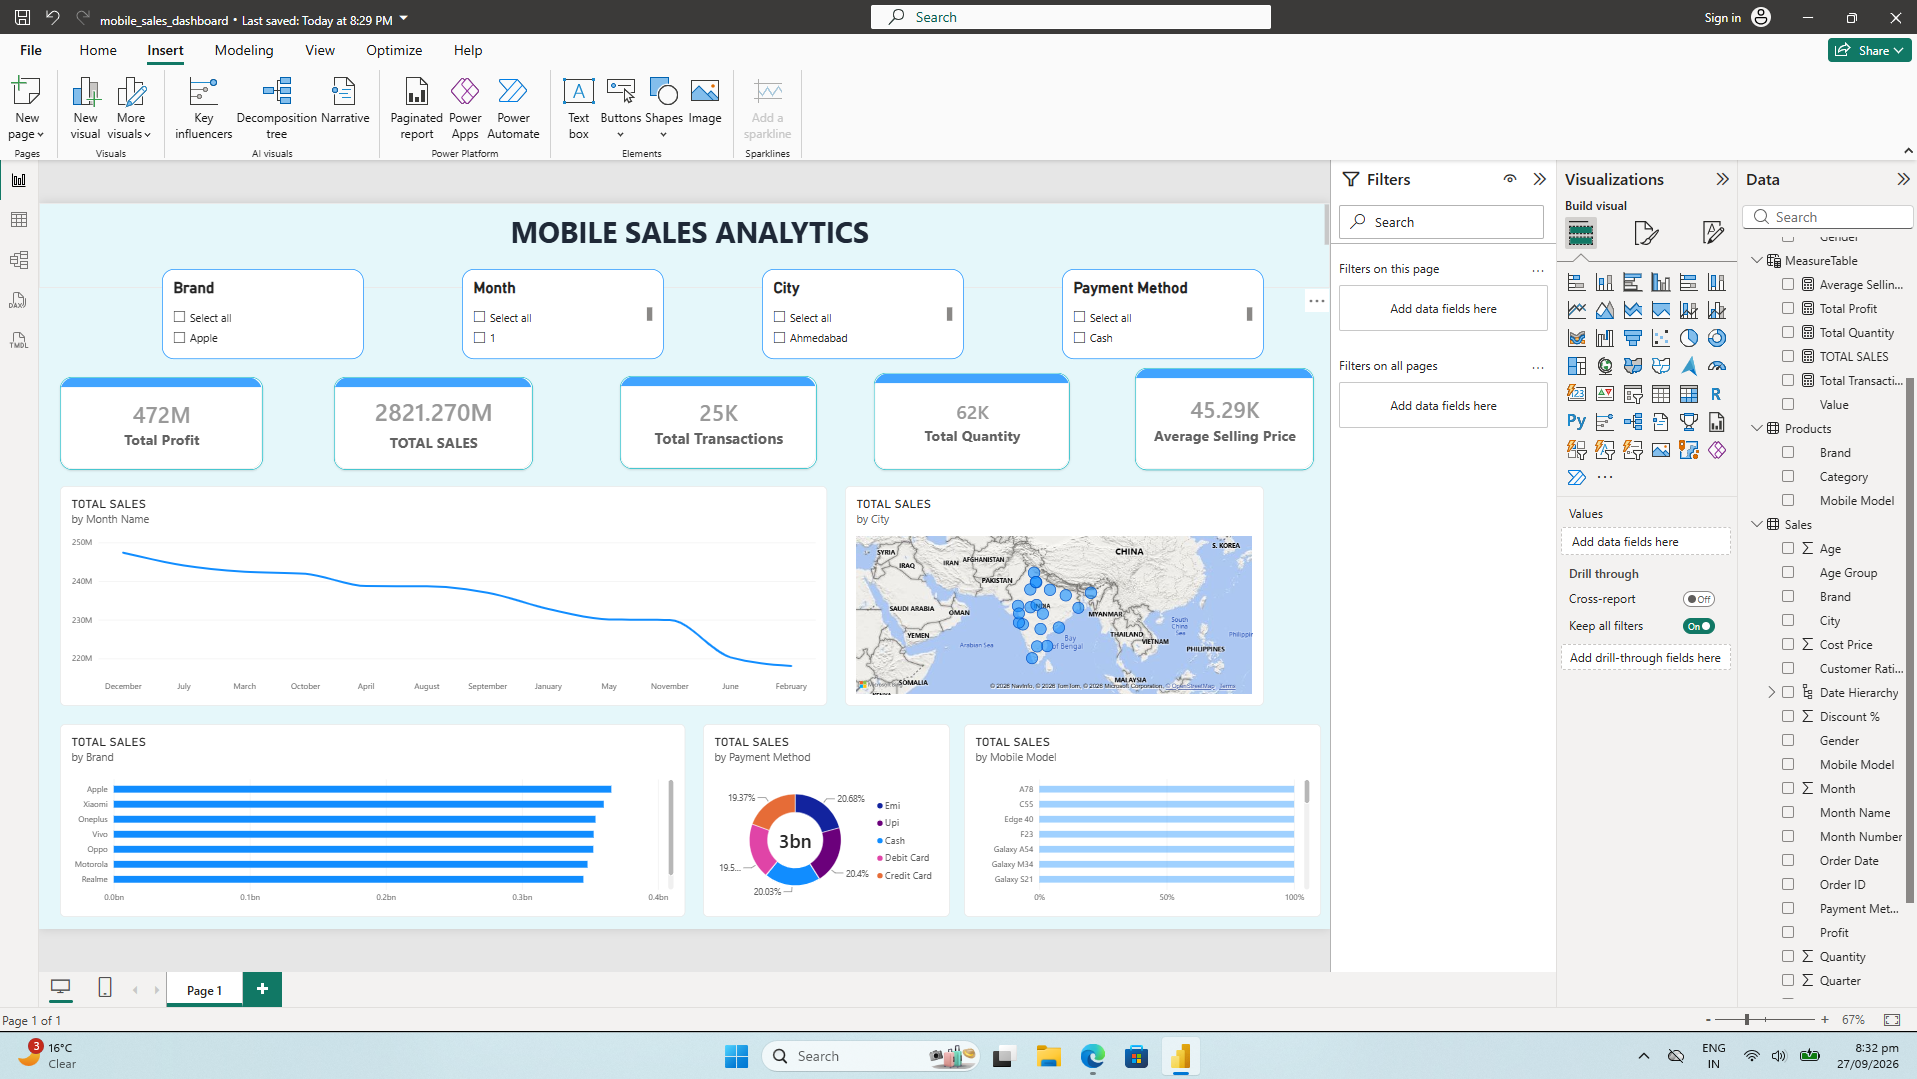

The dashboard page shown, as its layout file describes it:
{"tool":"powerbi","page":{"name":"Page 1","canvas":[1920,1080],"ordinal":0},"visuals":[{"type":"cardVisual","fields":{"Data":["MeasureTable.Total Sales"]},"box":[438.7,258.8,296,138.3],"z":2},{"type":"cardVisual","fields":{"Data":["MeasureTable.Average Selling Price"]},"box":[1630,245.4,266.2,151.7],"z":5},{"type":"cardVisual","fields":{"Data":["MeasureTable.Total Transactions"]},"box":[864,258,293,138.3],"z":6},{"type":"cardVisual","fields":{"Data":["MeasureTable.Total Quantity"]},"box":[1241.8,252.8,291.5,144.3],"z":7},{"type":"cardVisual","fields":{"Data":["MeasureTable.Total Profit"]},"box":[31.2,258.8,301.9,138.3],"z":8},{"type":"textbox","box":[150,372,300,300],"z":9},{"type":"textbox","box":[150,682,300,300],"z":10},{"type":"textbox","box":[0,20.4,227.6,211.6],"z":11},{"type":"textbox","box":[0,0,1920,126.4],"z":12},{"type":"lineChart","fields":{"Category":["Sales.Month Name"],"Y":["MeasureTable.TOTAL SALES"]},"box":[31.2,420.9,1140.7,327.2],"z":13},{"type":"clusteredBarChart","fields":{"Category":["Sales.Brand"],"Y":["MeasureTable.TOTAL SALES"]},"box":[31.2,774.8,929.5,287],"z":16},{"type":"donutChart","fields":{"Category":["Sales.Payment Method"],"Y":["MeasureTable.TOTAL SALES"]},"box":[987.5,774.8,367.3,287],"z":18},{"type":"hundredPercentStackedBarChart","fields":{"Category":["Products.Mobile Model"],"Y":["MeasureTable.TOTAL SALES"]},"box":[1375.7,774.8,530.9,287],"z":19},{"type":"listSlicer","fields":{"Values":["Sales.Month"]},"box":[629.1,98.2,300.4,133.8],"z":21},{"type":"listSlicer","fields":{"Values":["Sales.City"]},"box":[1075.3,98.2,300.4,133.8],"z":22},{"type":"listSlicer","fields":{"Values":["Sales.Payment Method"]},"box":[1521.4,98.2,300.4,133.8],"z":23},{"type":"map","fields":{"Category":["Sales.City"],"Size":["MeasureTable.TOTAL SALES"]},"box":[1198.6,421.4,623.1,327.2],"z":24},{"type":"listSlicer","fields":{"Values":["Products.Brand"]},"box":[182.9,98.2,300.4,133.8],"z":25}]}

Visuals, with their boxes on the page's 1920x1080 design canvas (x1, y1, x2, y2). These are canvas units, not pixel positions in the 1917x1079 screenshot, which may show the page scaled, cropped or inside an application window:
cardVisual - MeasureTable.Total Sales: 439/259/735/397
cardVisual - MeasureTable.Average Selling Price: 1630/245/1896/397
cardVisual - MeasureTable.Total Transactions: 864/258/1157/396
cardVisual - MeasureTable.Total Quantity: 1242/253/1533/397
cardVisual - MeasureTable.Total Profit: 31/259/333/397
textbox: 150/372/450/672
textbox: 150/682/450/982
textbox: 0/20/228/232
textbox: 0/0/1920/126
lineChart - Sales.Month Name x MeasureTable.TOTAL SALES: 31/421/1172/748
clusteredBarChart - Sales.Brand x MeasureTable.TOTAL SALES: 31/775/961/1062
donutChart - Sales.Payment Method x MeasureTable.TOTAL SALES: 988/775/1355/1062
hundredPercentStackedBarChart - Products.Mobile Model x MeasureTable.TOTAL SALES: 1376/775/1907/1062
listSlicer - Sales.Month: 629/98/930/232
listSlicer - Sales.City: 1075/98/1376/232
listSlicer - Sales.Payment Method: 1521/98/1822/232
map - Sales.City x MeasureTable.TOTAL SALES: 1199/421/1822/749
listSlicer - Products.Brand: 183/98/483/232
